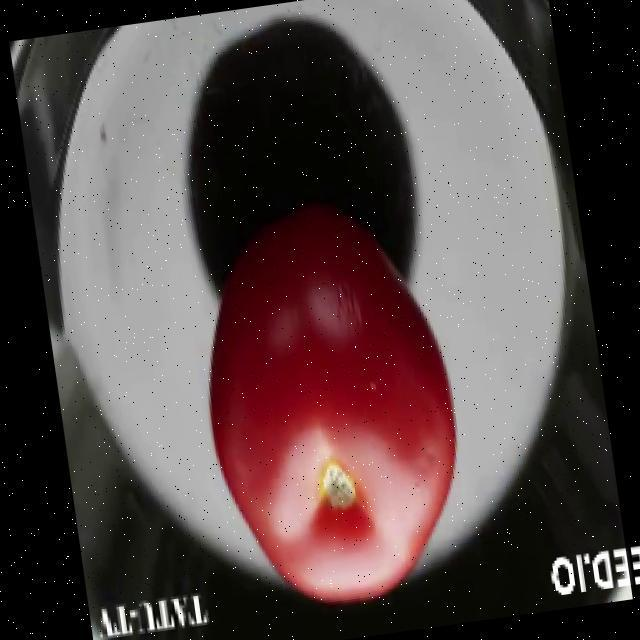tomato: (206, 201, 462, 610)
